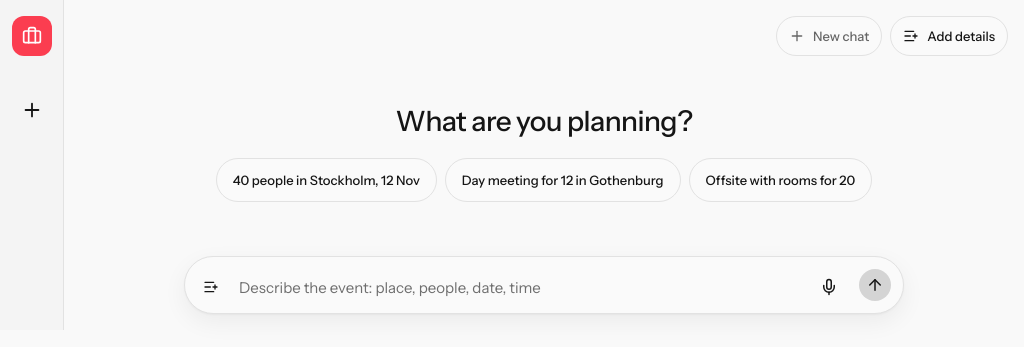
Scenario: composer microphone › returns Speak after no-speech
Click the button named "Speak".
click(829, 287)  # box [809, 267, 849, 307]
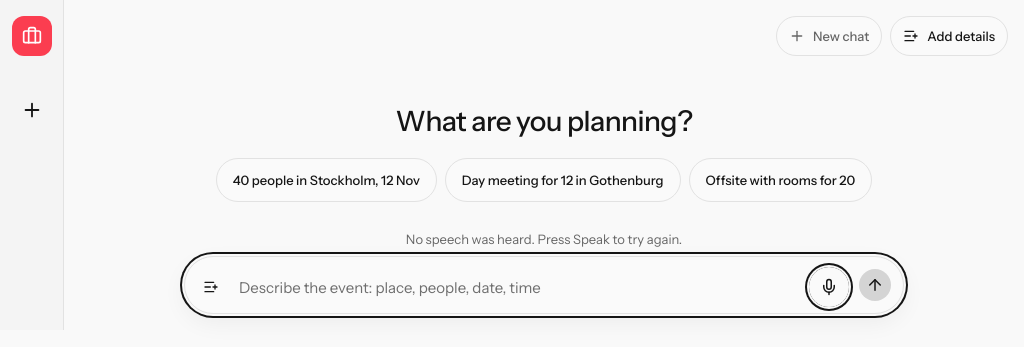
expect the message reads "No speech was heard. Press Speak to try again.": met, box [406, 231, 682, 247]
